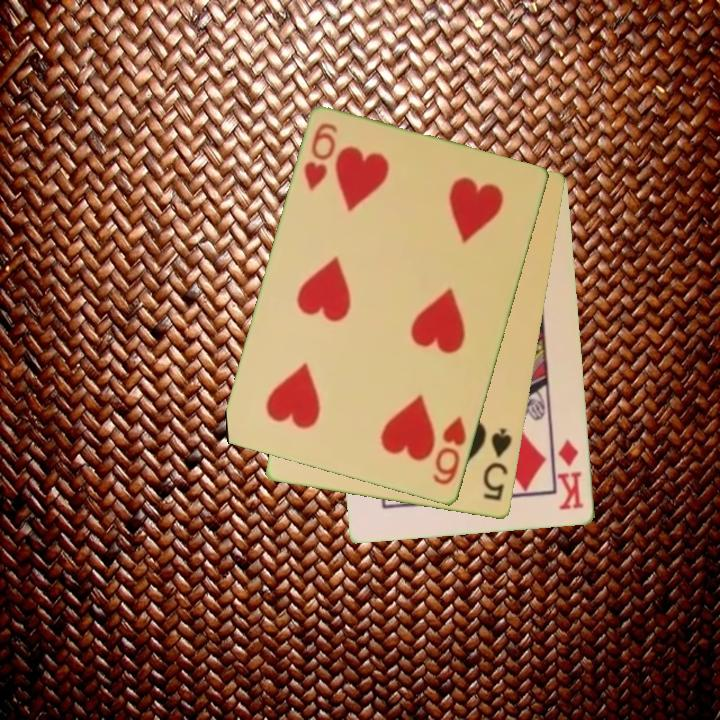5s: (480, 425, 515, 504)
6h: (429, 413, 470, 489), (300, 120, 341, 195)
Kd: (554, 436, 587, 513)
